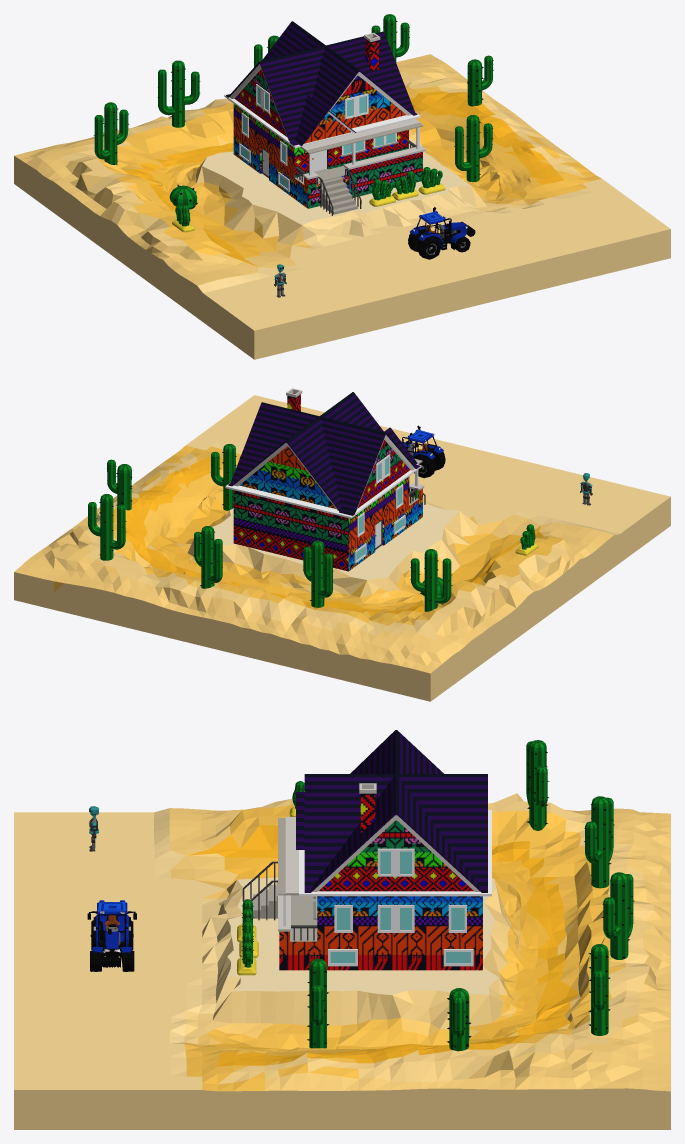
The picture shows the model from 3 angles, top to bottom: view 1: azimuth 30°, elevation 25°; view 2: azimuth 150°, elevation 25°; view 3: azimuth 270°, elevation 25°; orthographic projection. The views are drawn at different scales.
Visible parts, largest first — view 1: Cube.001, Cube.966, VEHICLES_TRACTOR, Cylinder.037, Cylinder.044, Cylinder.045, Cylinder.038, Cylinder.042, Cylinder.039, Cylinder.041, Sphere.023, Cylinder.040; view 2: Cube.001, Cube.966, Cylinder.042, Cylinder.045, Cylinder.044, Cylinder.043, VEHICLES_TRACTOR, Cylinder.037, Cylinder.038; view 3: Cube.001, Cube.966, VEHICLES_TRACTOR, Cylinder.043, Cylinder.044, Cylinder.045, Cylinder.042, Cylinder.037, Cylinder.038, Cylinder.041.
Boxes of the visible parts, x1,y1,x2,y2 form: Cube.001: [14, 54, 670, 359]; Cube.966: [224, 21, 425, 215]; VEHICLES_TRACTOR: [408, 207, 475, 259]; Cylinder.037: [454, 115, 493, 182]; Cylinder.044: [157, 60, 200, 127]; Cylinder.045: [93, 102, 129, 164]; Cylinder.038: [467, 55, 493, 106]; Cylinder.042: [371, 14, 409, 62]; Cylinder.039: [369, 179, 395, 206]; Cylinder.041: [418, 167, 445, 194]; Sphere.023: [169, 184, 197, 209]; Cylinder.040: [392, 171, 418, 200]; Cube.001: [14, 395, 670, 701]; Cube.966: [225, 388, 425, 571]; Cylinder.042: [88, 494, 126, 560]; Cylinder.045: [410, 549, 452, 611]; Cylinder.044: [303, 540, 333, 607]; Cylinder.043: [193, 526, 222, 588]; VEHICLES_TRACTOR: [401, 425, 445, 478]; Cylinder.037: [211, 444, 240, 510]; Cylinder.038: [107, 459, 131, 510]; Cube.001: [14, 793, 670, 1129]; Cube.966: [242, 730, 491, 970]; VEHICLES_TRACTOR: [87, 900, 136, 971]; Cylinder.043: [602, 872, 634, 959]; Cylinder.044: [584, 796, 614, 888]; Cylinder.045: [526, 740, 549, 830]; Cylinder.042: [588, 944, 610, 1035]; Cylinder.037: [307, 959, 329, 1048]; Cylinder.038: [447, 988, 471, 1051]; Cylinder.041: [237, 932, 256, 975].
Bounding box in the file's own units: 4002 × 1643 × 4001.
Materials: 32 (6 with a texture image).
